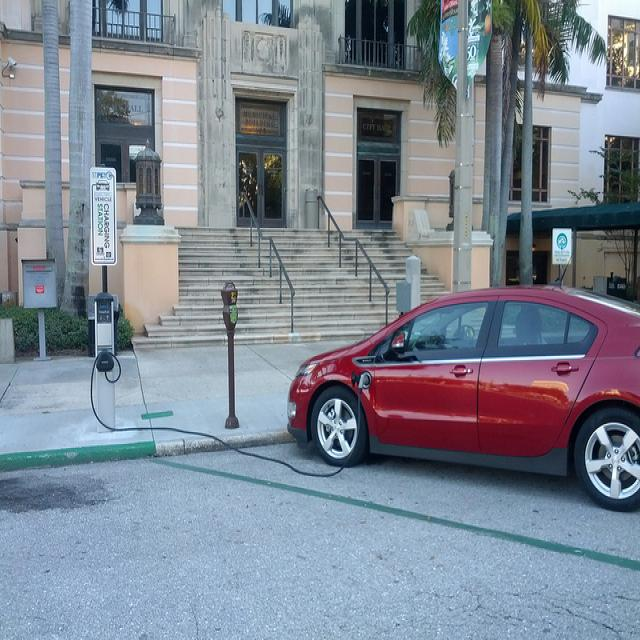Vehicle: (283, 287, 640, 514)
